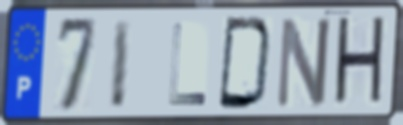7: (55, 15, 99, 116)
D: (216, 15, 276, 113)
H: (331, 13, 387, 111)
I: (107, 17, 134, 113)
L: (166, 20, 208, 109)
N: (273, 14, 334, 112)
